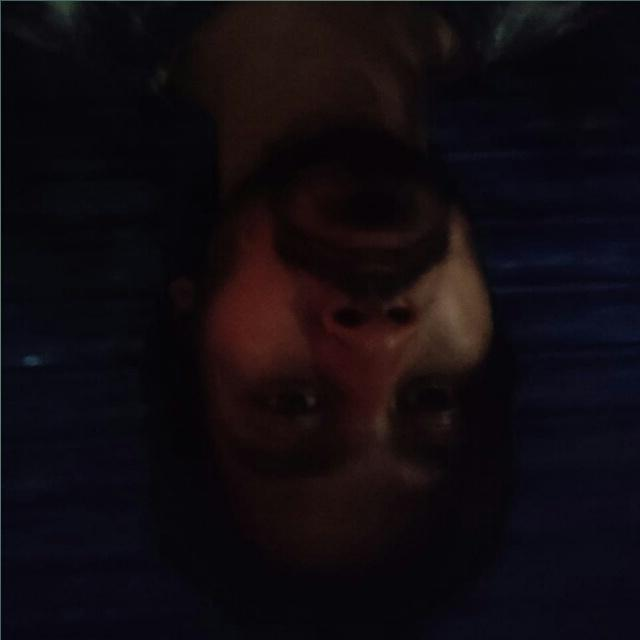Sad: (111, 74, 605, 640)
